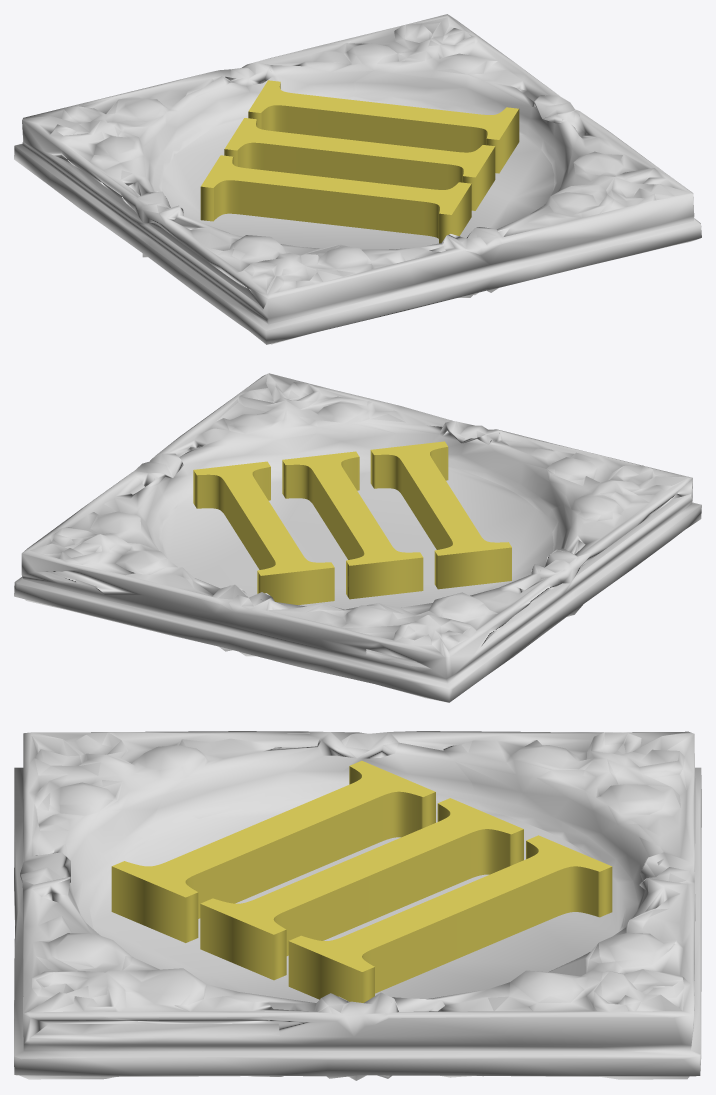
Rendered from sp_tile3.glb.
3 views of the same model, one above another, from view 1: azimuth 30°, elevation 25°; view 2: azimuth 150°, elevation 25°; view 3: azimuth 270°, elevation 25° (orthographic). The views are drawn at different scales.
Visible parts, largest first — view 1: テキスト.001; view 2: テキスト.001; view 3: テキスト.001.
Part boxes in pixels (left/top/right/bottom): テキスト.001: left=14, top=14, right=701, bottom=344; テキスト.001: left=14, top=373, right=701, bottom=702; テキスト.001: left=14, top=731, right=701, bottom=1080.
Bounding box in the file's own units: 3.6 × 0.5 × 3.6.
